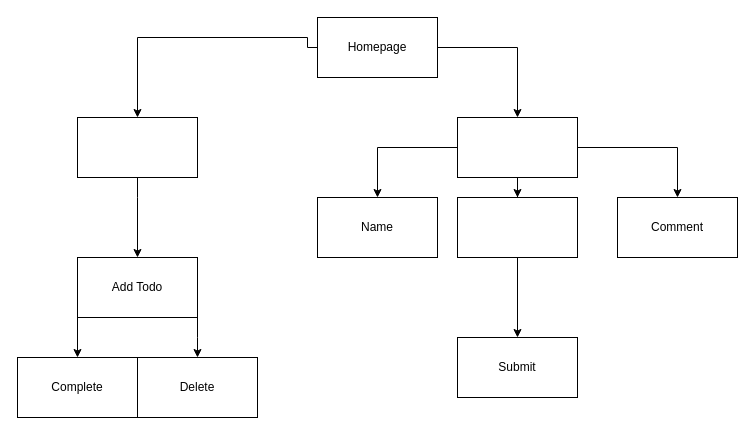
This 755x435 diagram has some shape labels left out. Each missing label, with the centre of its shape:
Contact Form: the point at 517,147
Email: the point at 517,227
ToDoList: the point at 137,147
